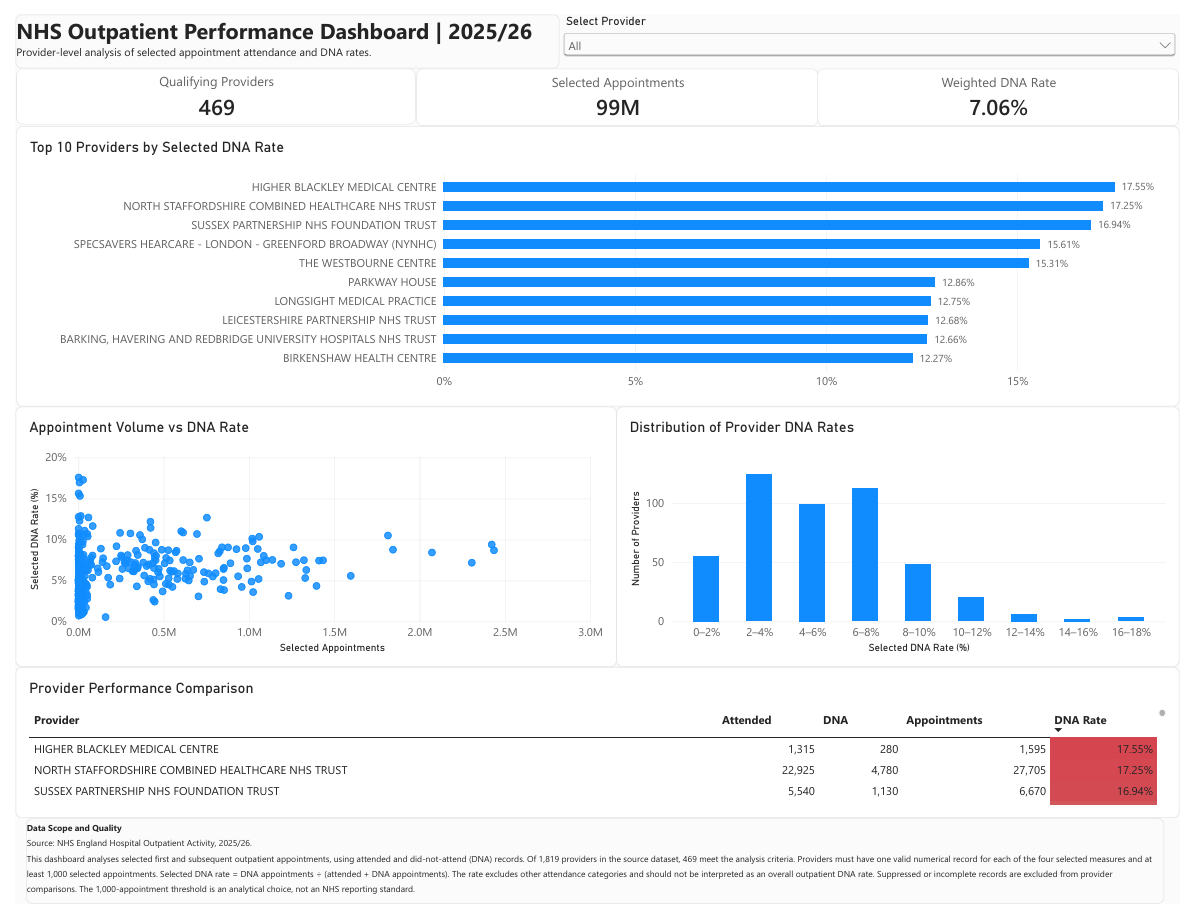

The dashboard page shown, as its layout file describes it:
{"tool":"powerbi","page":{"name":"Page 1","canvas":[1440,1100],"ordinal":0},"visuals":[{"type":"cardVisual","fields":{"Data":["Provider_DNA_Analysis.Qualifying Providers"]},"box":[1.3,67.1,494.8,69.7],"z":0},{"type":"cardVisual","fields":{"Data":["Provider_DNA_Analysis.Selected Appointments"]},"box":[496.2,67.1,497.5,71.1],"z":1000},{"type":"cardVisual","fields":{"Data":["Provider_DNA_Analysis.Weighted DNA Rate"]},"box":[992.4,67.1,447.9,71.1],"z":2000},{"type":"clusteredBarChart","title":"Top 10 Providers by Selected DNA Rate","fields":{"Category":["Provider_DNA_Analysis.provider_name"],"Y":["Provider_DNA_Analysis.Weighted DNA Rate"]},"box":[1.3,138.1,1438.9,347.3],"z":3000},{"type":"tableEx","title":"Provider Performance Comparison","fields":{"Values":["Provider_DNA_Analysis.provider_name","Sum(Provider_DNA_Analysis.attended)","Sum(Provider_DNA_Analysis.dna)","Sum(Provider_DNA_Analysis.appointment_volume)","Provider_DNA_Analysis.Weighted DNA Rate"]},"box":[0,807.3,1440.3,186.4],"z":4000},{"type":"textbox","box":[13.4,993.7,1408.1,105.9],"z":5000},{"type":"textbox","box":[0,0,673.2,67.1],"z":6000},{"type":"scatterChart","title":"Appointment Volume vs DNA Rate","fields":{"Category":["Provider_DNA_Analysis.provider_code"],"X":["Sum(Provider_DNA_Analysis.appointment_volume)"],"Y":["Provider_DNA_Analysis.Weighted DNA Rate"]},"box":[0,485.5,744.3,321.8],"z":7000},{"type":"clusteredColumnChart","title":"Distribution of Provider DNA Rates","fields":{"Category":["Provider_DNA_Analysis.DNA Rate Band"],"Y":["Count(Provider_DNA_Analysis.provider_code)"]},"box":[742.9,485.5,697.3,321.8],"z":8000},{"type":"slicer","fields":{"Values":["Provider_DNA_Analysis.provider_name"]},"box":[673.2,0,767.1,67.1],"z":9000}]}

Visuals, with their boxes in screenshot pixels (x1, y1, x2, y2), scaled from the page's 1440x1100 canvas onto the 1198x917 screenshot:
cardVisual - Provider_DNA_Analysis.Qualifying Providers: detection(1, 56, 413, 114)
cardVisual - Provider_DNA_Analysis.Selected Appointments: detection(413, 56, 827, 115)
cardVisual - Provider_DNA_Analysis.Weighted DNA Rate: detection(826, 56, 1197, 115)
"Top 10 Providers by Selected DNA Rate" clusteredBarChart: detection(1, 115, 1197, 405)
"Provider Performance Comparison" tableEx: detection(0, 673, 1197, 828)
textbox: detection(11, 828, 1183, 916)
textbox: detection(0, 0, 560, 56)
"Appointment Volume vs DNA Rate" scatterChart: detection(0, 405, 619, 673)
"Distribution of Provider DNA Rates" clusteredColumnChart: detection(618, 405, 1197, 673)
slicer - Provider_DNA_Analysis.provider_name: detection(560, 0, 1197, 56)
